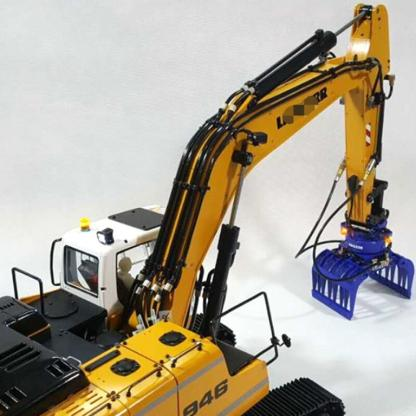excavator: (45, 12, 404, 416)
